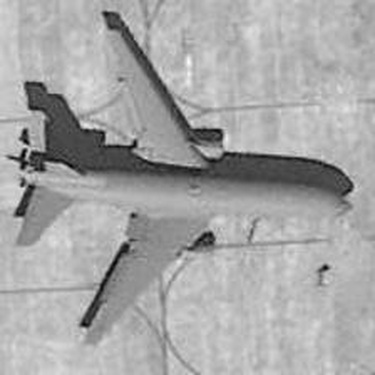airplane: (6, 4, 363, 352)
